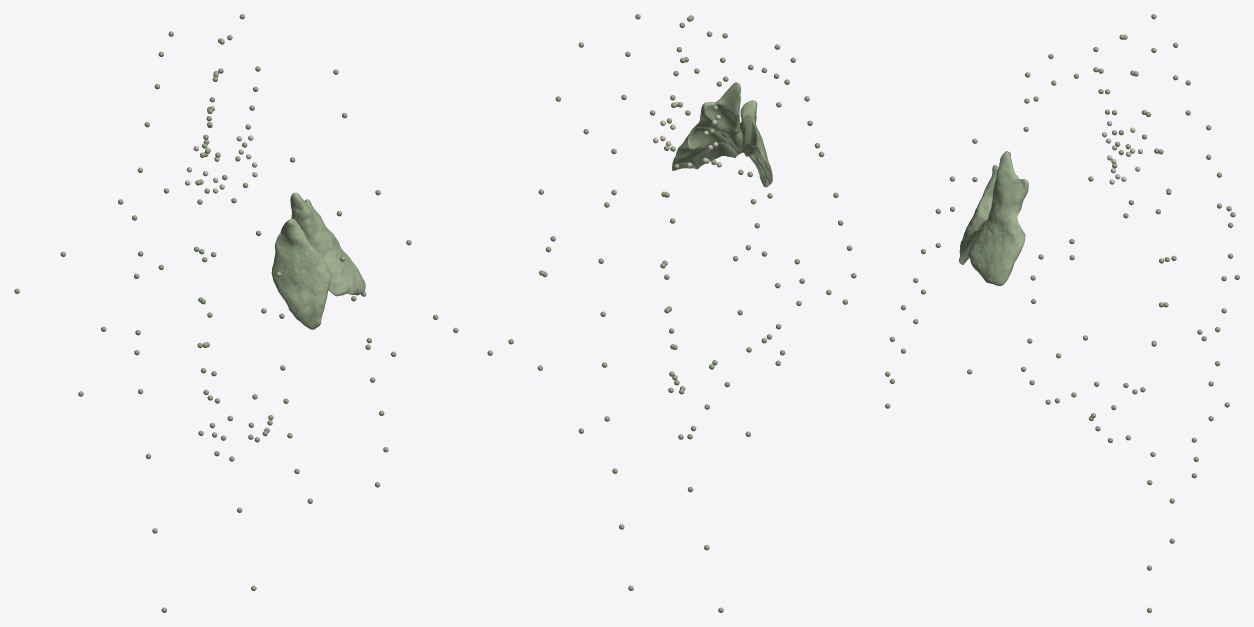
Rendered from thorax-lymphatics-balanced.glb.
3 views of the same model, side by side, from view 1: azimuth 30°, elevation 25°; view 2: azimuth 150°, elevation 25°; view 3: azimuth 270°, elevation 25° (orthographic). The views are drawn at different scales.
Visible parts, largest first — view 1: za.right-lobe-of-thymus, za.left-lobe-of-thymus, za.intrapulmonary-nodes; view 2: za.left-lobe-of-thymus, za.right-lobe-of-thymus, za.intrapulmonary-nodes; view 3: za.left-lobe-of-thymus, za.right-lobe-of-thymus, za.intrapulmonary-nodes.
Boxes of the visible parts, x1,y1,x2,y2 form: za.right-lobe-of-thymus: (271, 218, 330, 329); za.left-lobe-of-thymus: (290, 192, 365, 296); za.intrapulmonary-nodes: (14, 69, 458, 399); za.left-lobe-of-thymus: (672, 82, 742, 170); za.right-lobe-of-thymus: (730, 100, 772, 187); za.intrapulmonary-nodes: (487, 42, 831, 436); za.left-lobe-of-thymus: (968, 151, 1028, 285); za.right-lobe-of-thymus: (959, 165, 998, 264); za.intrapulmonary-nodes: (967, 134, 1239, 485).
Size of the model in its own units: 0.1825 by 0.2975 by 0.1708.
